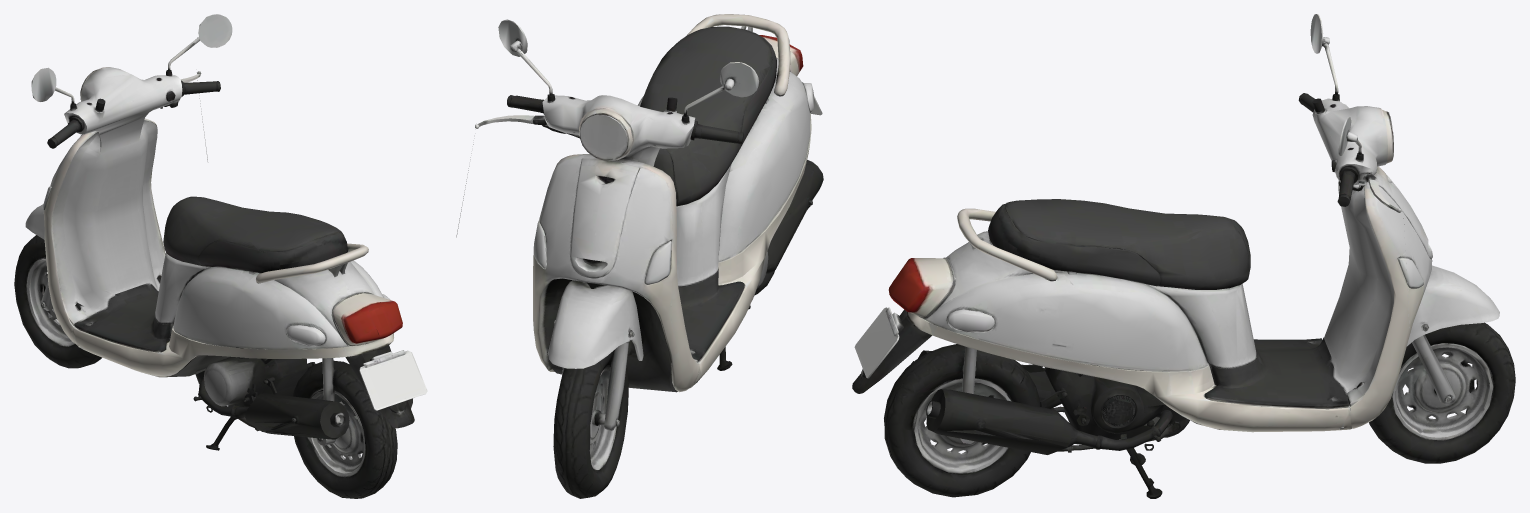
Rendered from scooter.glb.
3 views of the same model, side by side, from view 1: azimuth 30°, elevation 25°; view 2: azimuth 150°, elevation 25°; view 3: azimuth 270°, elevation 25° (orthographic). The views are drawn at different scales.
Visible parts, largest first — view 1: scooter; view 2: scooter; view 3: scooter.
Part boxes in pixels (x1,y1,x2,y2): scooter: (14, 14, 427, 498); scooter: (456, 14, 823, 498); scooter: (852, 14, 1515, 498).
Bounding box in the file's own units: 0.8087 × 1.24 × 1.85.
Materials: 1 (1 with a texture image).
